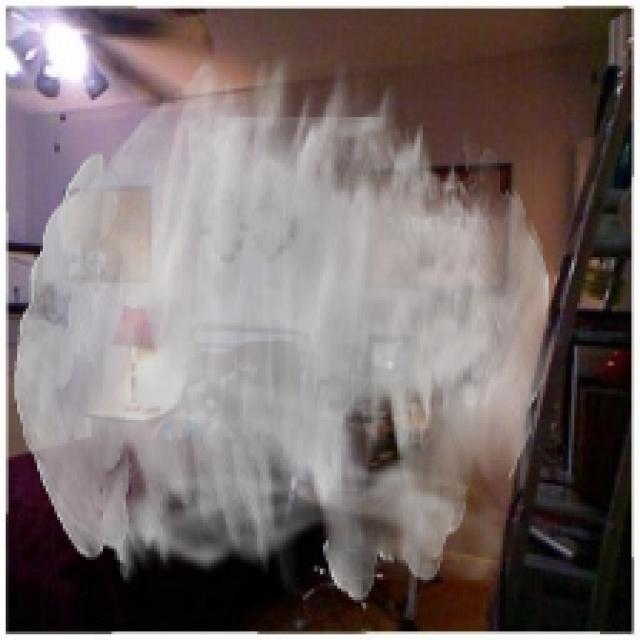Smoke: (14, 51, 552, 603)
